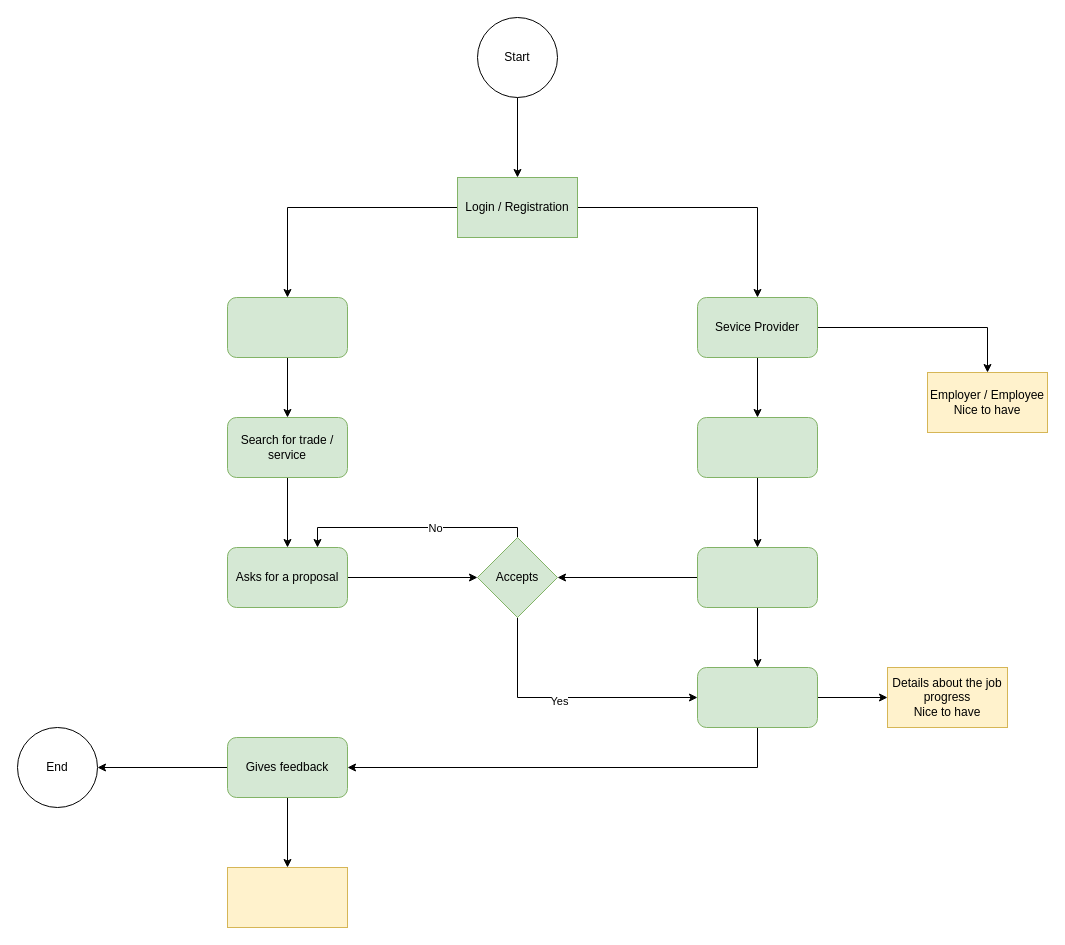
The diagram is 1065 pixels wide and 945 high, and some of its shapes have lost their labels. The centre of each missing label's shape, as x and y in pixels:
"Customer" belongs at pixel 287 327.
"Do job" belongs at pixel 757 697.
"Rating system Nice to have" belongs at pixel 287 897.
"Send proposal" belongs at pixel 757 577.
"What's their trade / What's their location" belongs at pixel 757 447.
